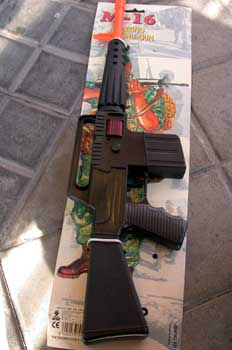rifle: (41, 2, 181, 340)
